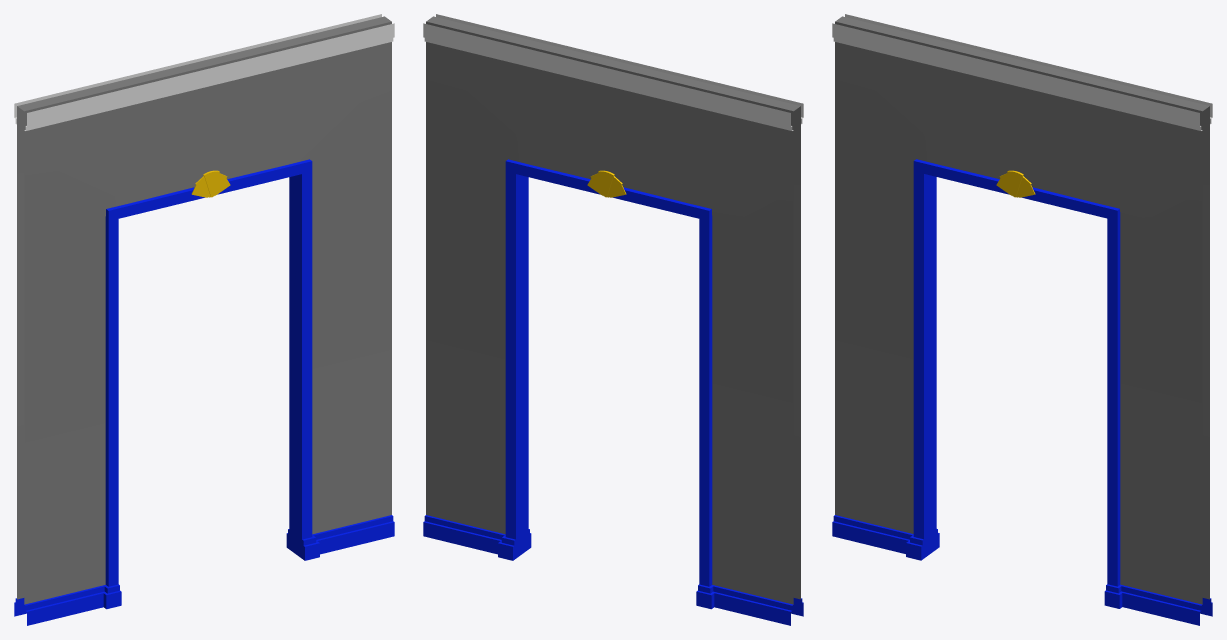
File: SM_Door_4x3.fbx
3 renders of one model, left to right at view 1: azimuth 30°, elevation 25°; view 2: azimuth 150°, elevation 25°; view 3: azimuth 330°, elevation 25°, orthographic.
Parts seen in each view (by area): view 1: SM_DoorWall_4x3, SM_BigDoor_01, SM_DoorWall_BaseBoard_01, SM_DecorationDoor_01; view 2: SM_DoorWall_4x3, SM_BigDoor_01, SM_DoorWall_BaseBoard_01, SM_DecorationDoor_01; view 3: SM_DoorWall_4x3, SM_BigDoor_01, SM_DoorWall_BaseBoard_01, SM_DecorationDoor_01.
Part boxes in pixels (x1,y1,x2,y2): SM_DoorWall_4x3: (17, 16, 391, 604); SM_BigDoor_01: (14, 159, 394, 625); SM_DoorWall_BaseBoard_01: (14, 14, 394, 130); SM_DecorationDoor_01: (191, 170, 230, 197); SM_DoorWall_4x3: (426, 16, 800, 604); SM_BigDoor_01: (423, 159, 803, 625); SM_DoorWall_BaseBoard_01: (423, 14, 803, 130); SM_DecorationDoor_01: (587, 170, 626, 197); SM_DoorWall_4x3: (835, 16, 1209, 604); SM_BigDoor_01: (832, 159, 1212, 625); SM_DoorWall_BaseBoard_01: (832, 14, 1212, 130); SM_DecorationDoor_01: (996, 170, 1035, 197).
Size of the model in its own units: 300 by 400 by 26.
